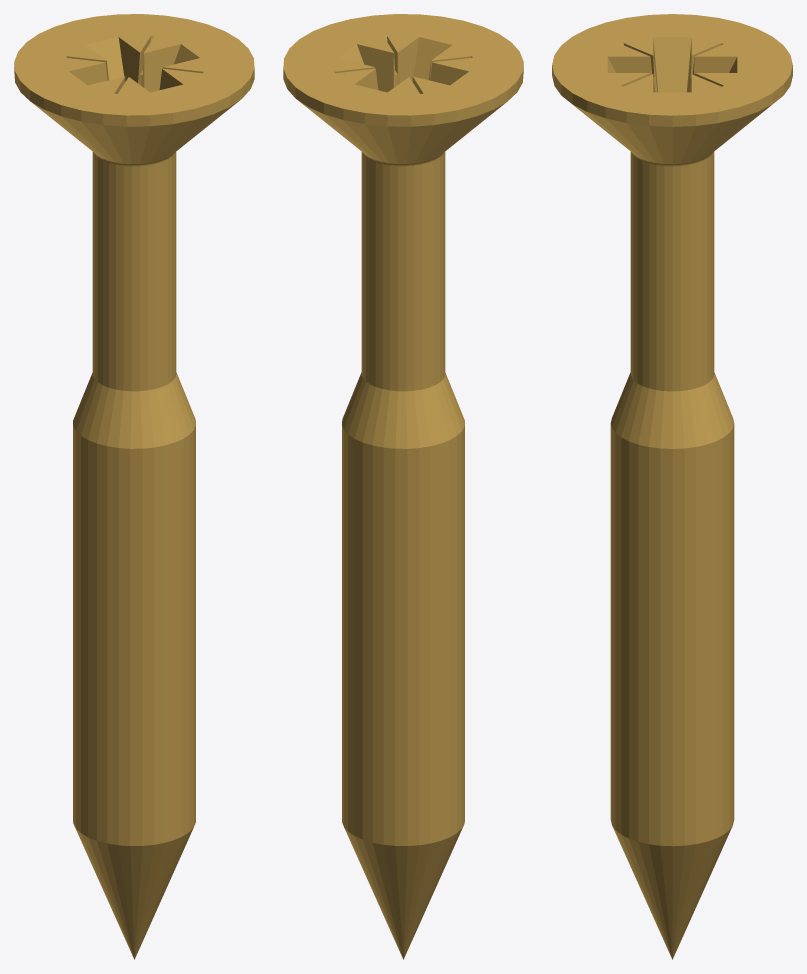
Rendered from model_display.glb.
3 views of the same model, side by side, from view 1: azimuth 30°, elevation 25°; view 2: azimuth 150°, elevation 25°; view 3: azimuth 270°, elevation 25° (orthographic).
Parts seen in each view (by area): view 1: geometry_0; view 2: geometry_0; view 3: geometry_0.
Part boxes in pixels (box(x1,y1,x2,y2)): geometry_0: box(14, 14, 254, 959); geometry_0: box(283, 14, 523, 959); geometry_0: box(552, 14, 792, 959).
Size of the model in its own units: 0.00975 by 0.04 by 0.00975.
